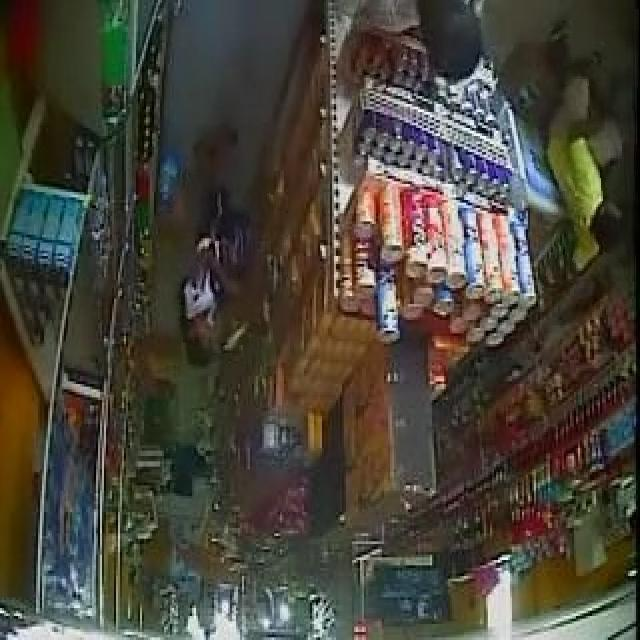normal: (539, 8, 638, 281), (170, 123, 274, 376), (346, 0, 512, 88)
